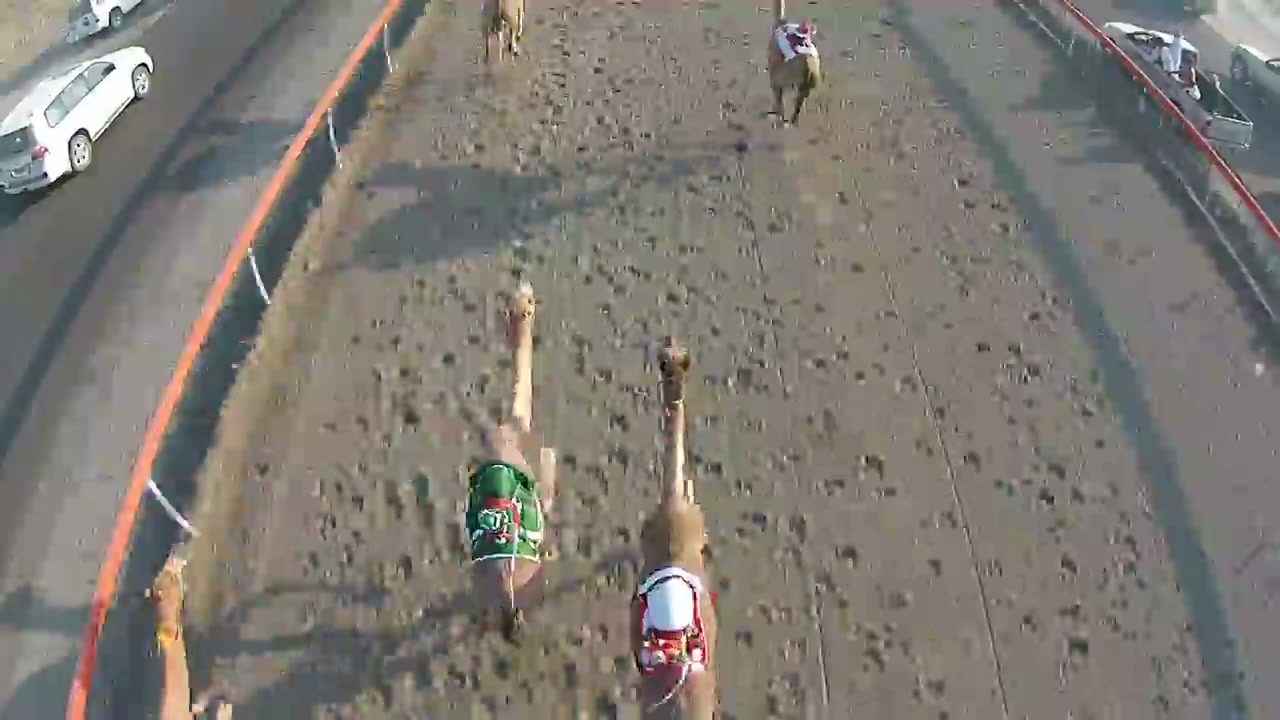animal_foot_print: (395, 24, 599, 713), (602, 60, 744, 706)
